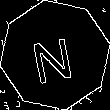N_N: (30, 26, 80, 84)
